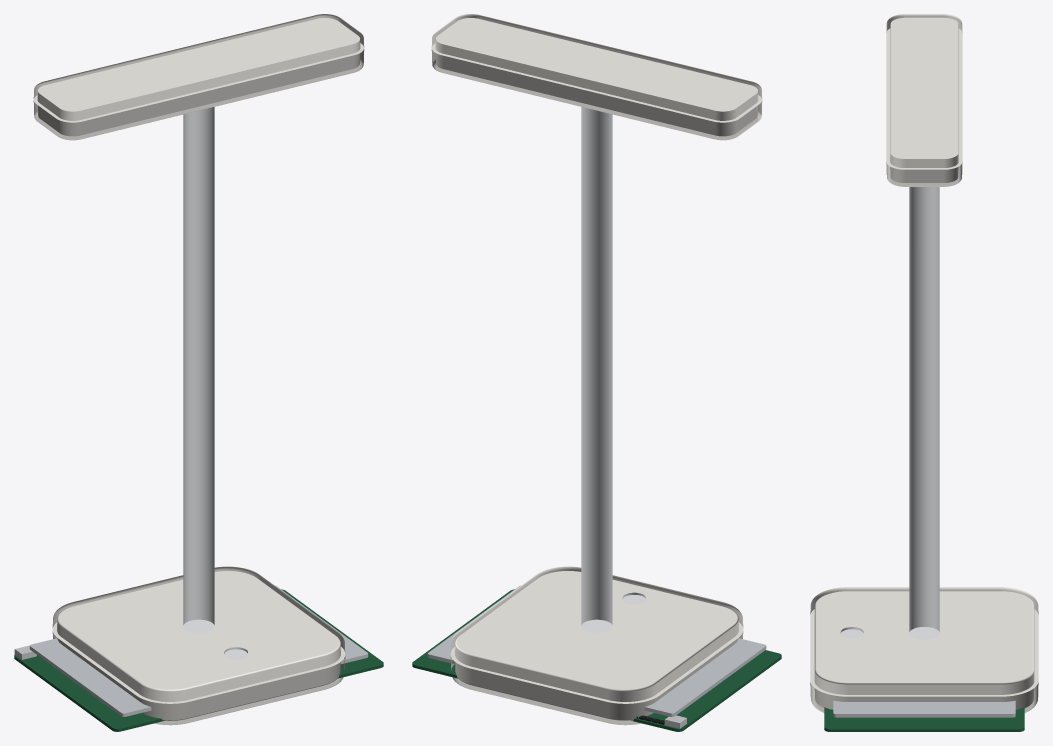
The model's file is anatomy_v0.glb.
3 renders of one model, left to right at view 1: azimuth 30°, elevation 25°; view 2: azimuth 150°, elevation 25°; view 3: azimuth 270°, elevation 25°, orthographic. The views are drawn at different scales.
Parts seen in each view (by area): view 1: body.1, metal.1, body.1_2, accent.1_2, accent.1, battery.1, pcb.1; view 2: body.1, metal.1, body.1_2, accent.1_2, accent.1, battery.1, pcb.1; view 3: body.1, metal.1, body.1_2, pcb.1, battery.1, accent.1, accent.1_2.
Boxes of the visible parts, x1=… form: body.1: x1=52, y1=566, x2=345, y2=703; metal.1: x1=183, y1=107, x2=214, y2=632; body.1_2: x1=33, y1=14, x2=364, y2=122; accent.1_2: x1=33, y1=49, x2=364, y2=140; accent.1: x1=52, y1=631, x2=345, y2=725; battery.1: x1=29, y1=585, x2=368, y2=716; pcb.1: x1=14, y1=589, x2=383, y2=731; body.1: x1=450, y1=566, x2=743, y2=703; metal.1: x1=581, y1=107, x2=612, y2=632; body.1_2: x1=431, y1=14, x2=762, y2=122; accent.1_2: x1=431, y1=49, x2=762, y2=140; accent.1: x1=450, y1=631, x2=743, y2=725; battery.1: x1=427, y1=585, x2=766, y2=716; pcb.1: x1=412, y1=589, x2=781, y2=731; body.1: x1=810, y1=587, x2=1038, y2=696; metal.1: x1=909, y1=187, x2=939, y2=639; body.1_2: x1=886, y1=14, x2=962, y2=169; pcb.1: x1=824, y1=707, x2=1024, y2=731; battery.1: x1=833, y1=700, x2=1015, y2=717; accent.1: x1=810, y1=682, x2=1038, y2=712; accent.1_2: x1=886, y1=162, x2=962, y2=186.
Size of the model in its own units: 0.18 by 0.3412 by 0.12.
